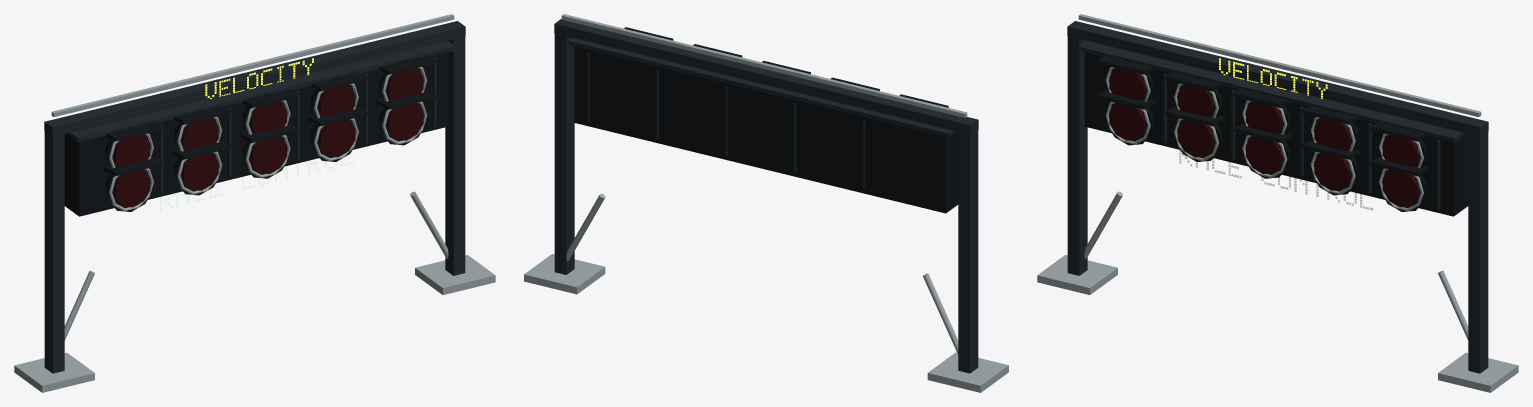
The model's file is race-start-lights-lod2.glb.
3 renders of one model, left to right at view 1: azimuth 30°, elevation 25°; view 2: azimuth 150°, elevation 25°; view 3: azimuth 330°, elevation 25°, orthographic.
Parts seen in each view (by area): view 1: housing__Moulded_carbon_housing, frame__Powder-coated_graphite_frame, frame__Brushed_aluminium, housing__Powder-coated_graphite_frame, hardware__Brushed_aluminium, StartLight_01_Top, StartLight_02_Top, StartLight_03_Top, StartLight_04_Top, StartLight_05_Top, StartLight_05_Bottom, StartLight_02_Bottom (+5 smaller); view 2: housing__Moulded_carbon_housing, frame__Powder-coated_graphite_frame, frame__Brushed_aluminium, housing__Powder-coated_graphite_frame; view 3: housing__Moulded_carbon_housing, frame__Powder-coated_graphite_frame, frame__Brushed_aluminium, housing__Powder-coated_graphite_frame, hardware__Brushed_aluminium, StartLight_04_Top, StartLight_05_Top, StartLight_02_Top, StartLight_03_Top, StartLight_01_Top, StartLight_01_Bottom, StartLight_04_Bottom (+5 smaller).
Boxes of the visible parts, bbox=[...] form: housing__Moulded_carbon_housing: bbox=[64, 52, 448, 216]; frame__Powder-coated_graphite_frame: bbox=[44, 21, 465, 373]; frame__Brushed_aluminium: bbox=[14, 14, 495, 392]; housing__Powder-coated_graphite_frame: bbox=[67, 40, 455, 193]; hardware__Brushed_aluminium: bbox=[109, 67, 427, 211]; StartLight_01_Top: bbox=[114, 169, 150, 207]; StartLight_02_Top: bbox=[182, 153, 218, 190]; StartLight_03_Top: bbox=[250, 136, 286, 173]; StartLight_04_Top: bbox=[319, 120, 355, 157]; StartLight_05_Top: bbox=[387, 103, 423, 140]; StartLight_05_Bottom: bbox=[387, 68, 423, 105]; StartLight_02_Bottom: bbox=[182, 118, 218, 150]; housing__Moulded_carbon_housing: bbox=[574, 27, 958, 213]; frame__Powder-coated_graphite_frame: bbox=[554, 19, 978, 373]; frame__Brushed_aluminium: bbox=[524, 14, 1008, 392]; housing__Powder-coated_graphite_frame: bbox=[568, 38, 955, 189]; housing__Moulded_carbon_housing: bbox=[1084, 52, 1468, 216]; frame__Powder-coated_graphite_frame: bbox=[1067, 21, 1488, 373]; frame__Brushed_aluminium: bbox=[1037, 14, 1518, 392]; housing__Powder-coated_graphite_frame: bbox=[1077, 40, 1465, 209]; hardware__Brushed_aluminium: bbox=[1105, 67, 1423, 211]; StartLight_04_Top: bbox=[1314, 153, 1350, 190]; StartLight_05_Top: bbox=[1382, 169, 1418, 207]; StartLight_02_Top: bbox=[1177, 120, 1213, 157]; StartLight_03_Top: bbox=[1246, 136, 1282, 173]; StartLight_01_Top: bbox=[1109, 103, 1145, 140]; StartLight_01_Bottom: bbox=[1109, 68, 1145, 105]; StartLight_04_Bottom: bbox=[1314, 118, 1350, 150].
Size of the model in its own units: 10.75 by 5.97 by 1.43.
